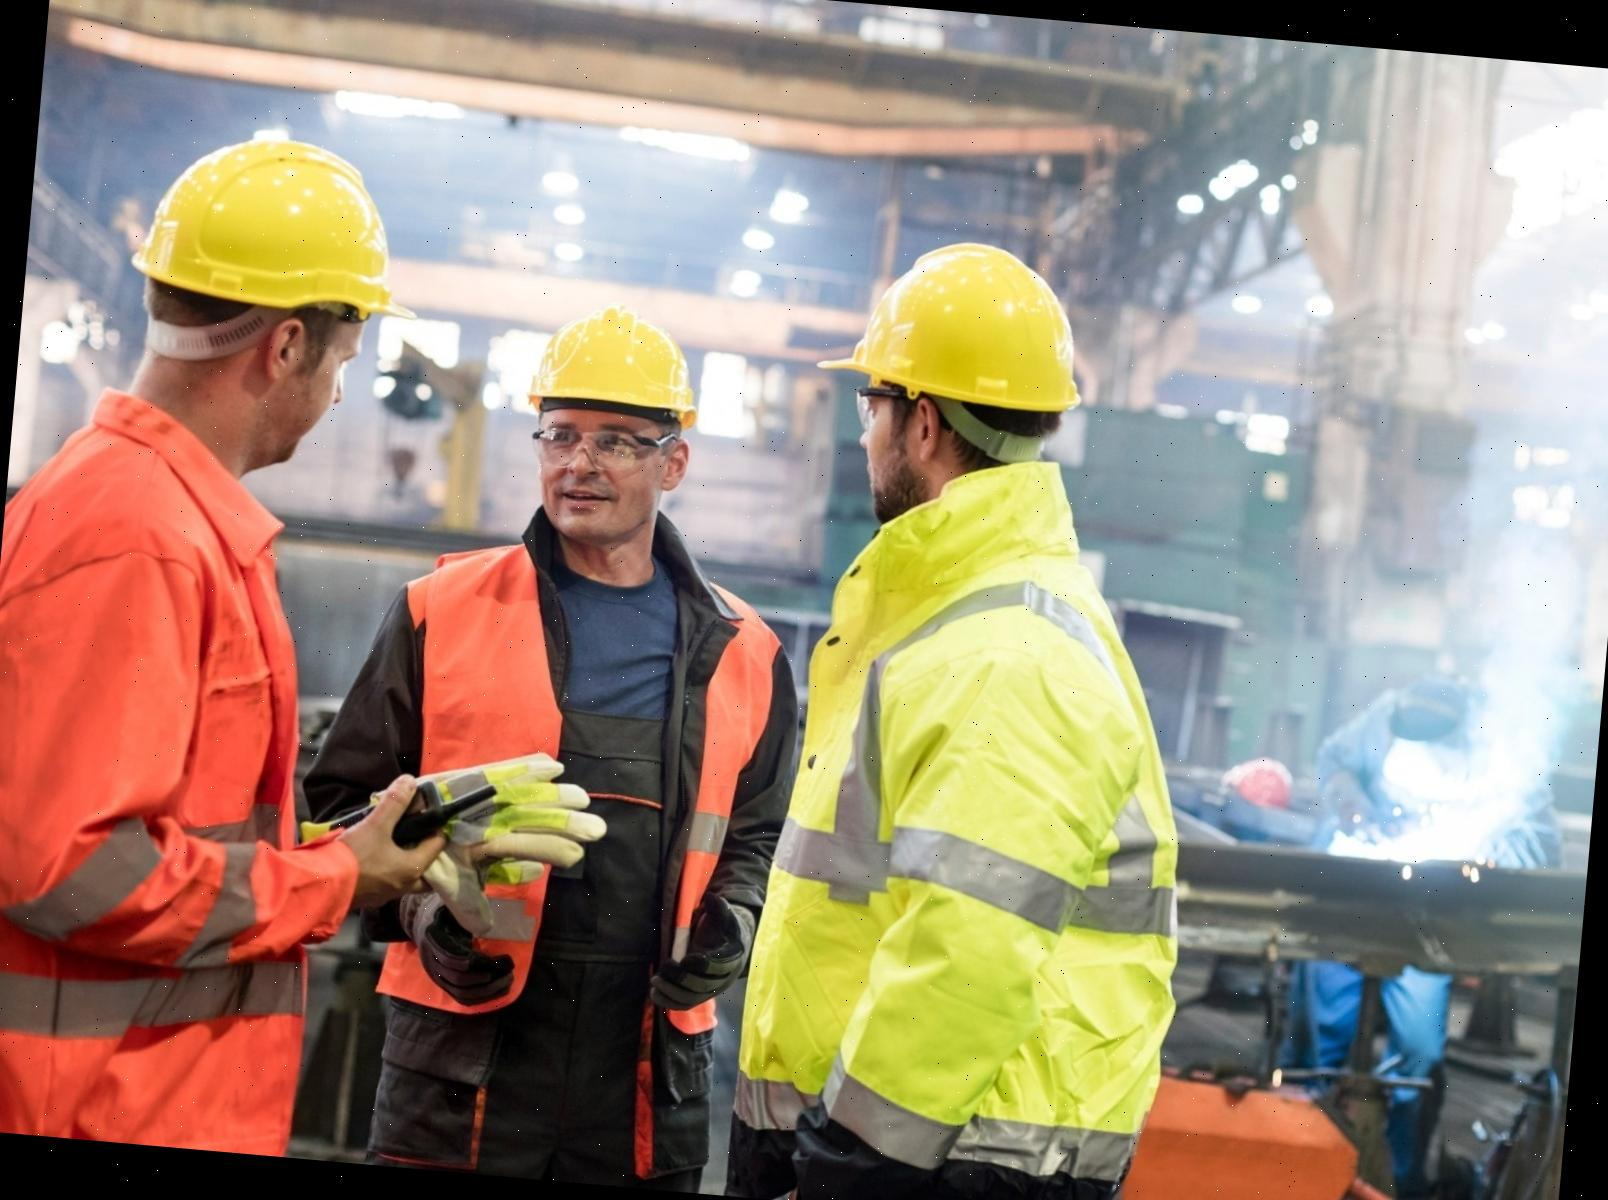helmet: (118, 121, 441, 334), (808, 228, 1104, 442), (525, 303, 713, 426)
wear: (759, 521, 1203, 1200), (362, 543, 781, 1182), (0, 442, 352, 1152)
